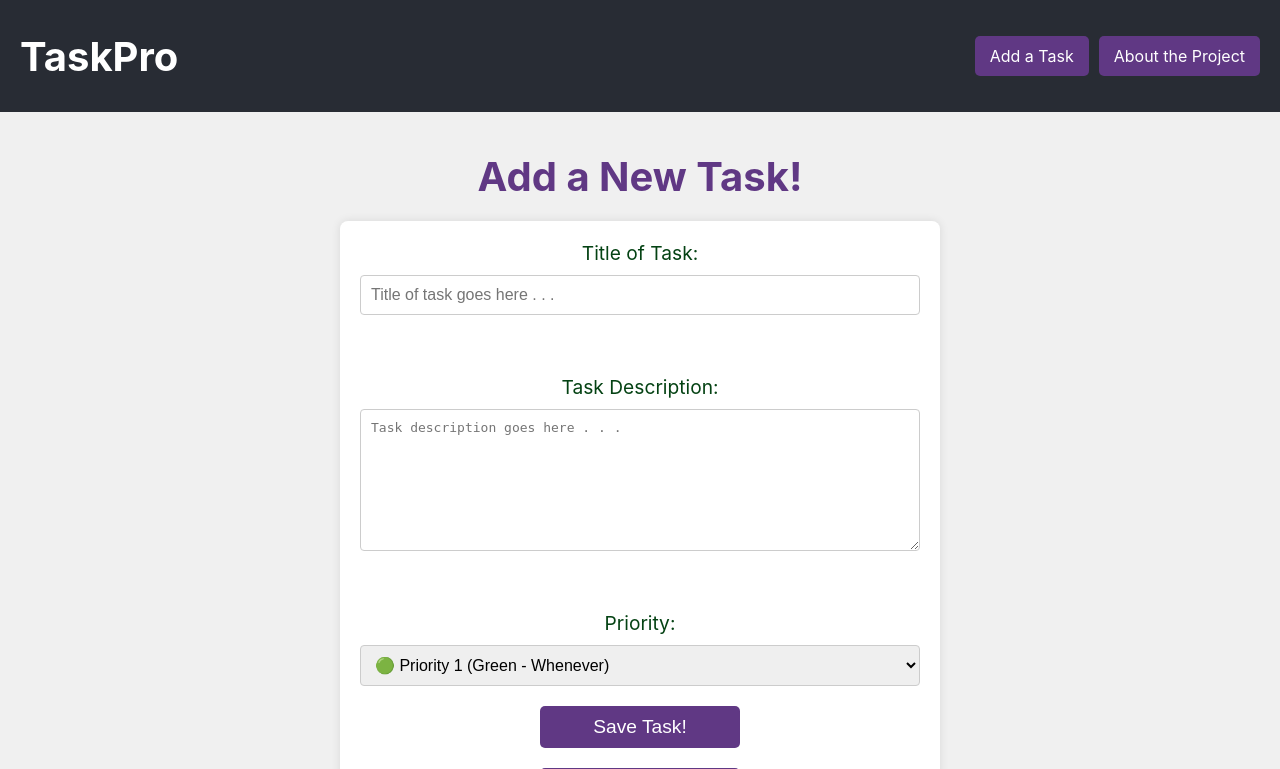
Task Card Component › should remove the task and no longer display it
The width and height of the screenshot is (1280, 769).
Type "Sample Task Title" into the field named "taskTitle" at (640, 295), box [360,275,920,315]
Type "Sample task description" into the text box named "taskDescription" at (640, 480), box [360,409,920,551]
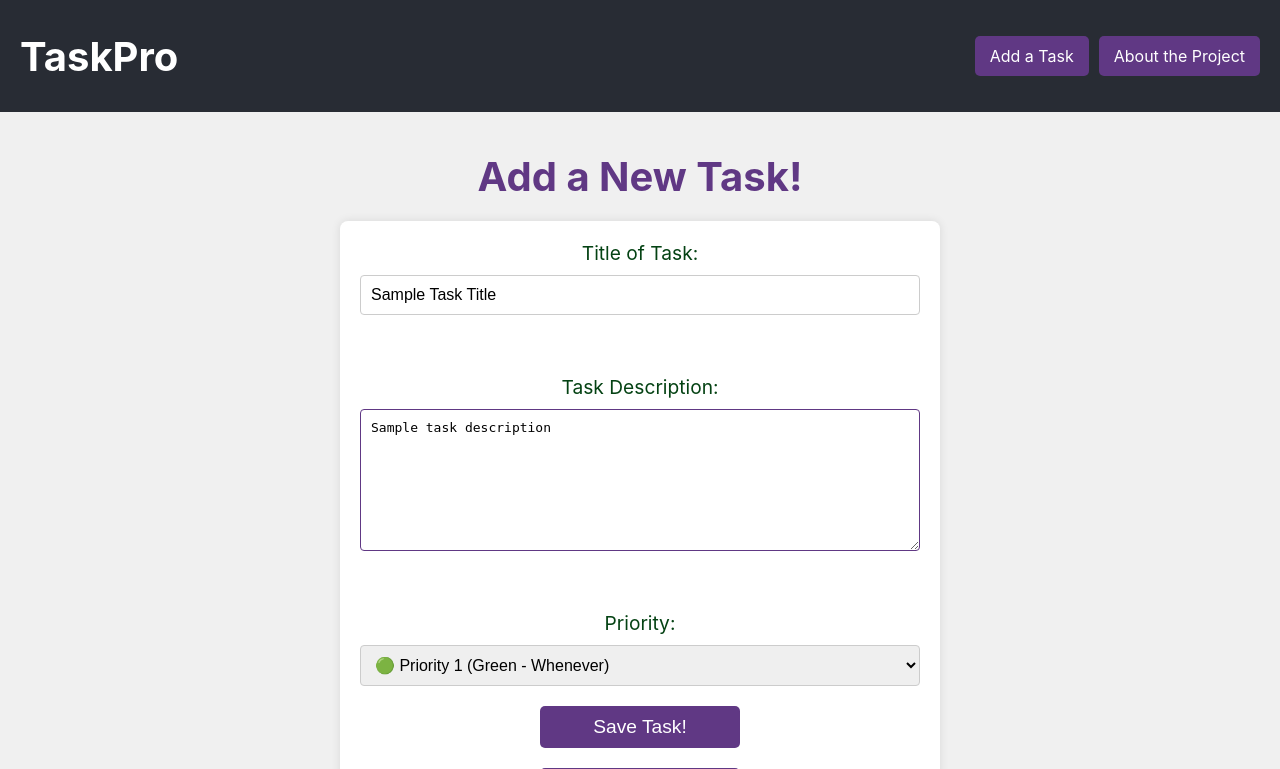
Select "🔵 Priority 2 (Blue - Start Planning)" in the dropdown with id "taskPriority" at (640, 666), box [360,645,920,686]
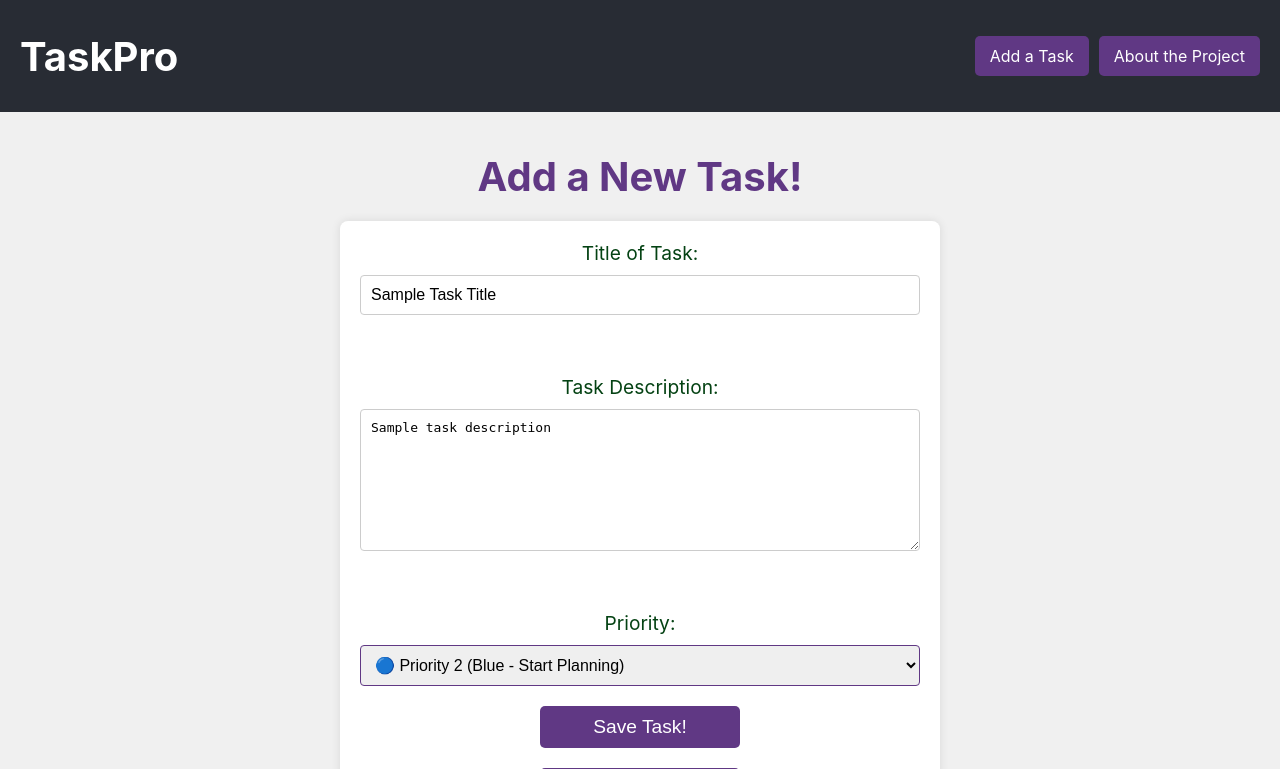
Click the button "Save Task!" at (640, 727), box [540,706,740,748]
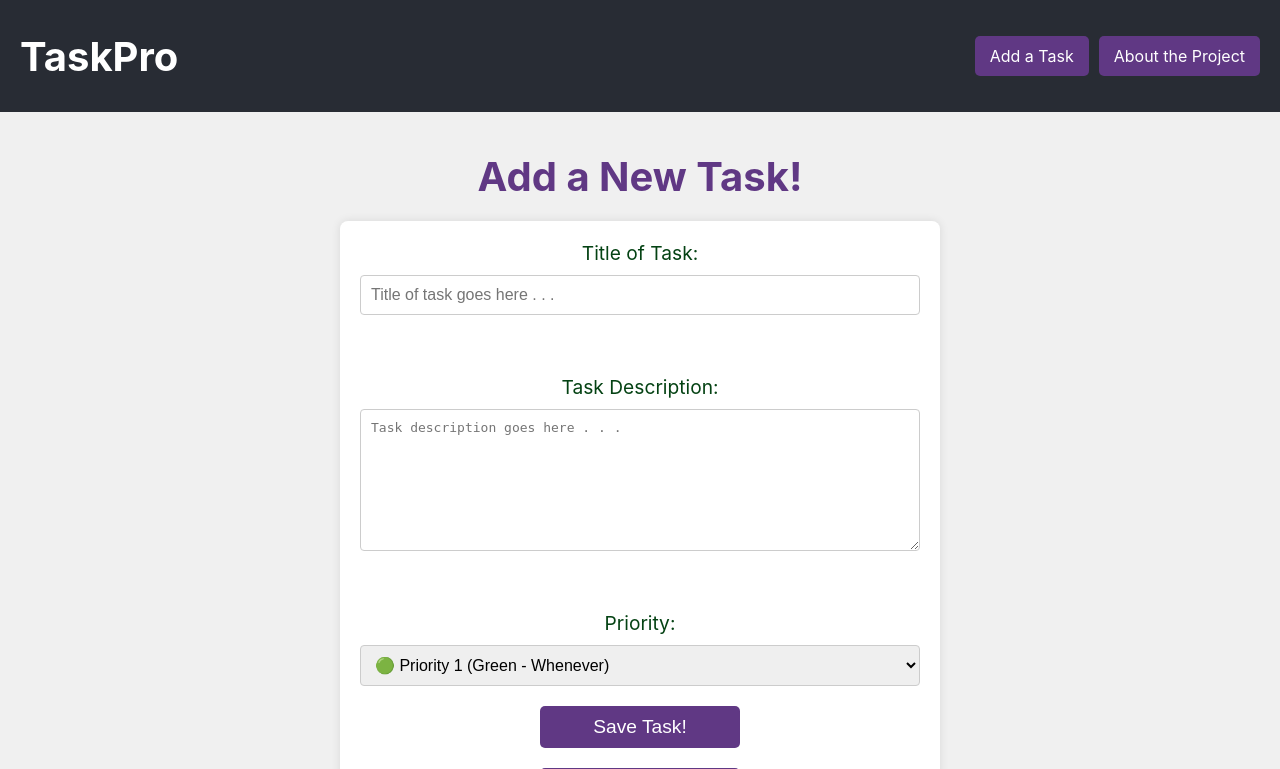
Scroll
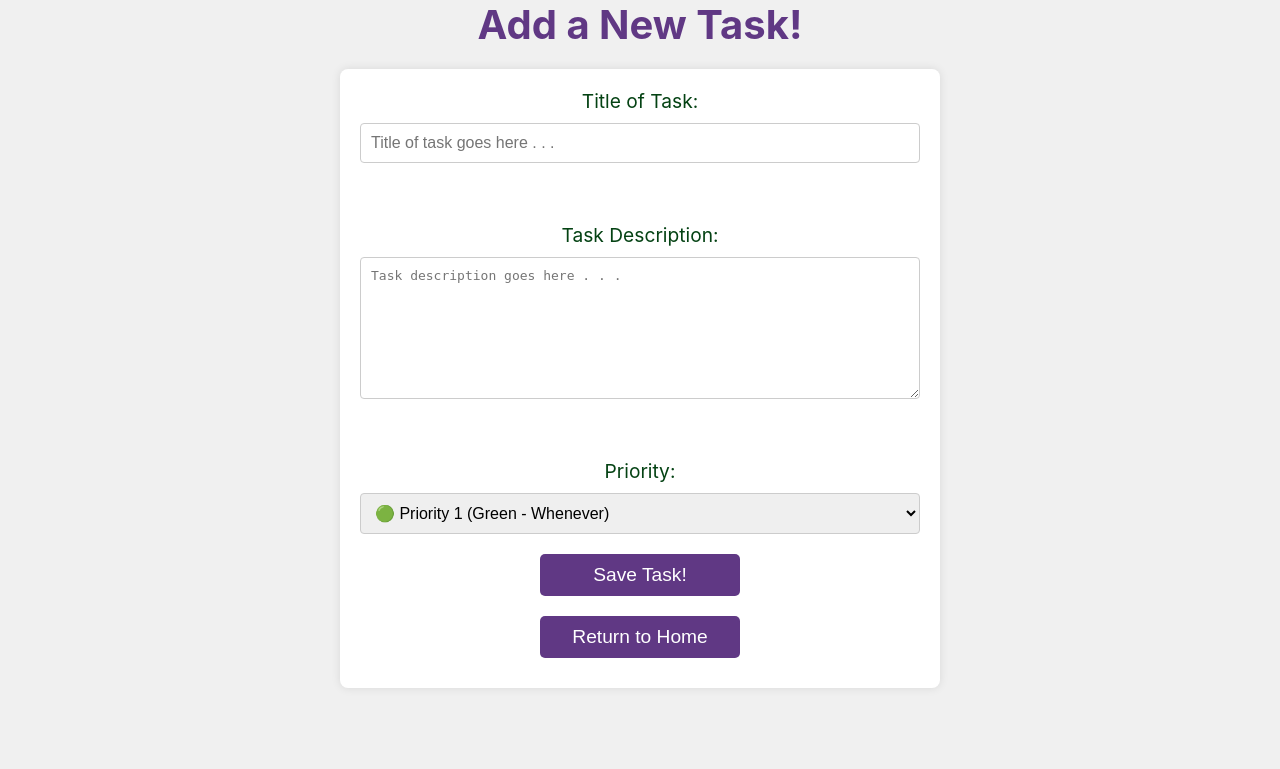
Click the button "Return to Home" at (640, 637), box [540,616,740,658]
(page scrolled)
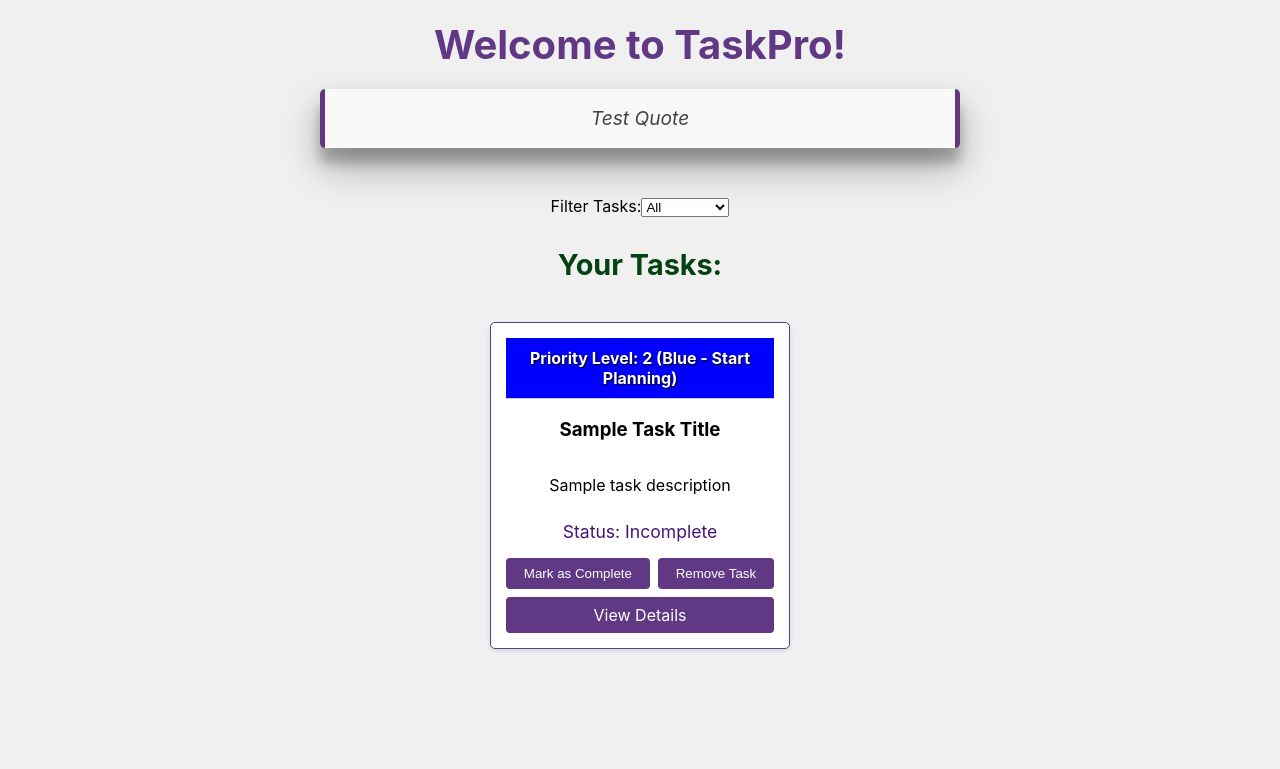
Click the button "Remove Task" at (716, 574), box [658,558,774,589]
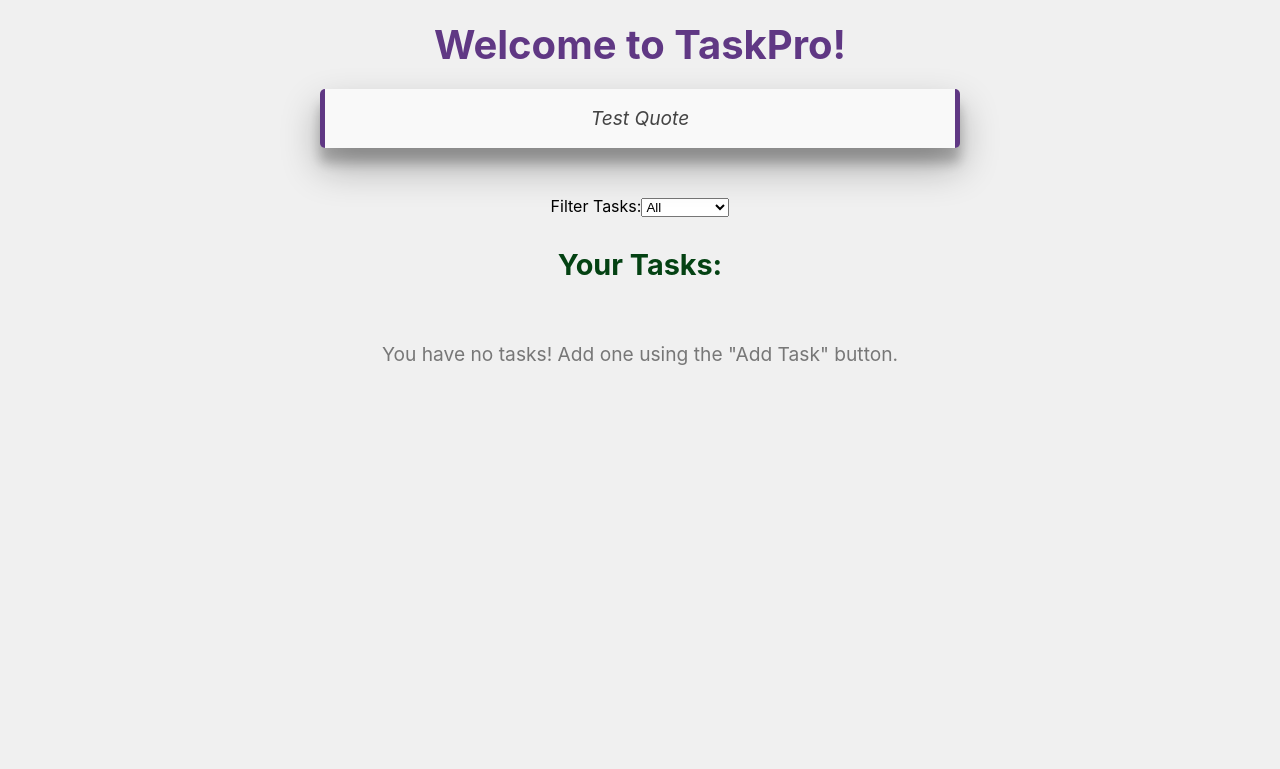
expect the element with class "task-card" is gone: met
